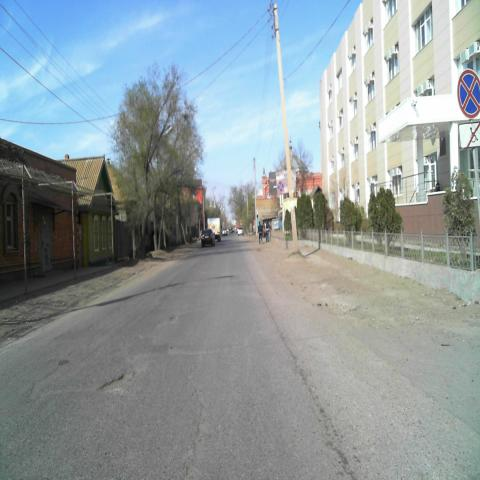8_18: (458, 121, 480, 151)
